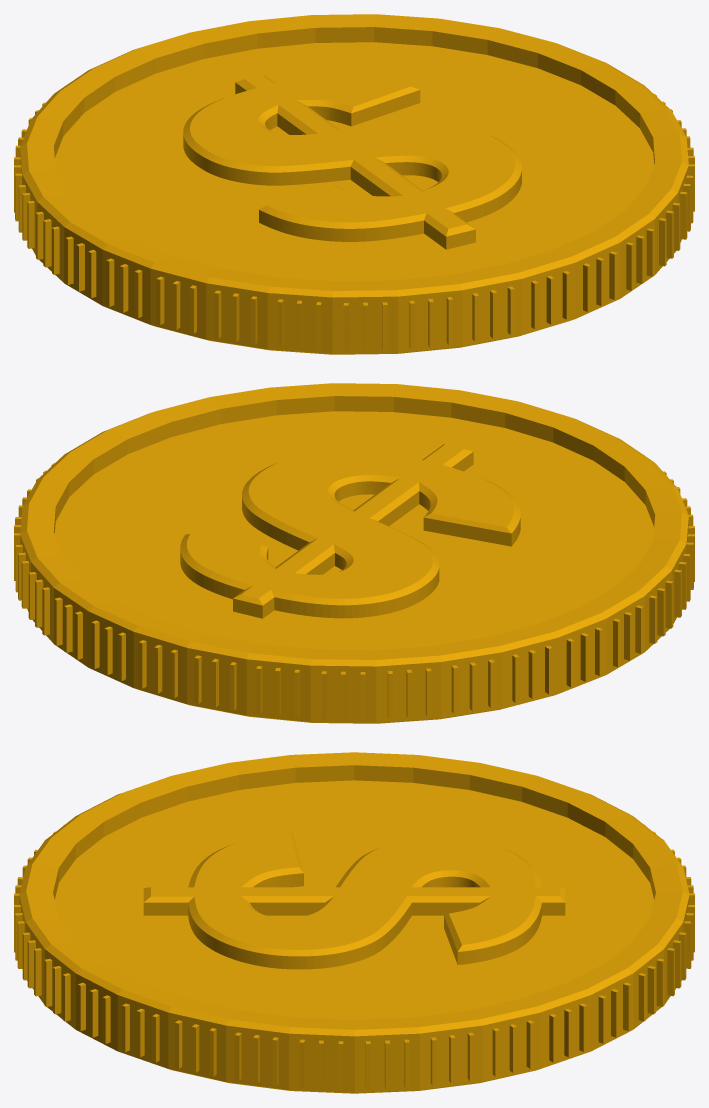
File: gold_coin.glb
The picture shows the model from 3 angles, top to bottom: view 1: azimuth 30°, elevation 25°; view 2: azimuth 150°, elevation 25°; view 3: azimuth 270°, elevation 25°; orthographic projection.
Visible parts, largest first — view 1: Coin_Gold_0; view 2: Coin_Gold_0; view 3: Coin_Gold_0.
Boxes of the visible parts, x1,y1,x2,y2 form: Coin_Gold_0: (14, 14, 694, 354); Coin_Gold_0: (14, 383, 694, 723); Coin_Gold_0: (14, 752, 694, 1093).
Bounding box in the file's own units: 2.03 × 0.21 × 2.03.
